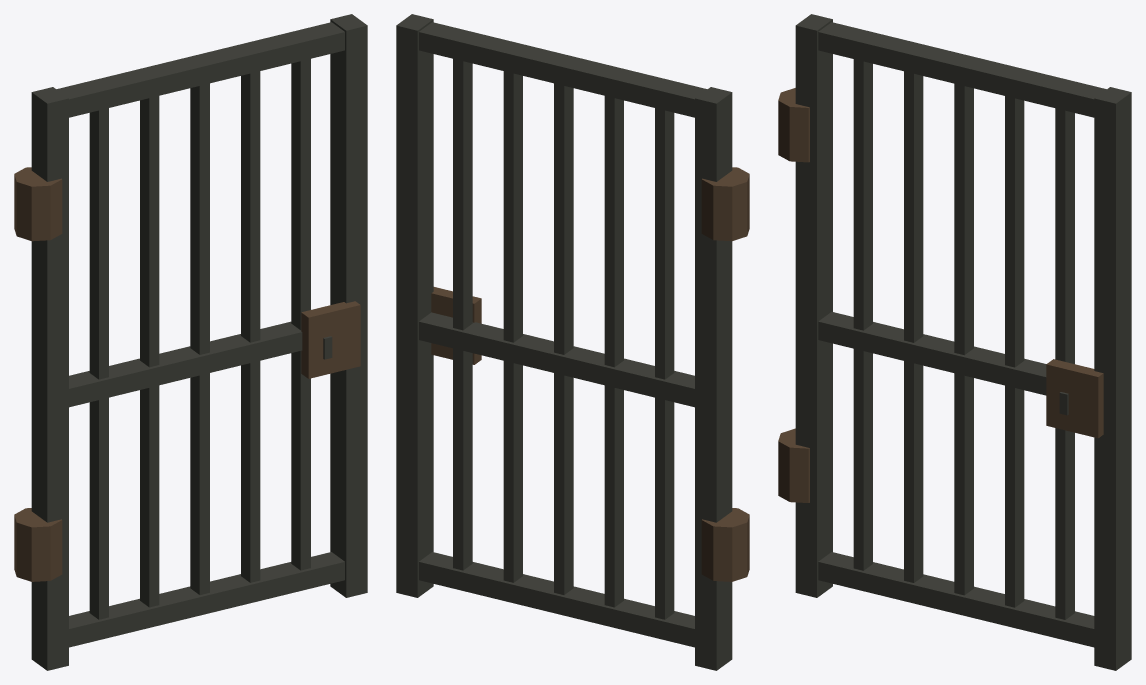
File: hinged_wicket.glb
3 views of the same model, side by side, from view 1: azimuth 30°, elevation 25°; view 2: azimuth 150°, elevation 25°; view 3: azimuth 330°, elevation 25° (orthographic).
Visible parts, largest first — view 1: Hinged wicket; view 2: Hinged wicket; view 3: Hinged wicket.
Boxes of the visible parts, <box> form: Hinged wicket: <box>14,14,367,670</box>; Hinged wicket: <box>396,14,749,670</box>; Hinged wicket: <box>778,14,1131,670</box>.
Size of the model in its own units: 1.05 by 1.67 by 0.143.
